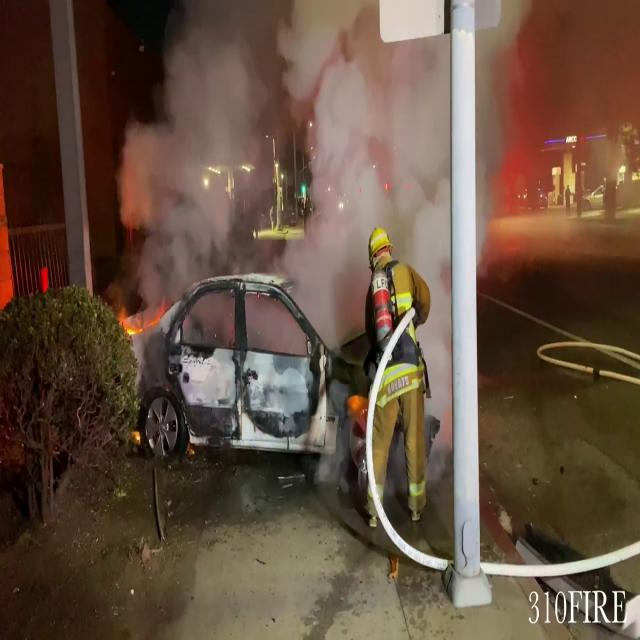Fire: (120, 308, 144, 341)
Smoke: (293, 2, 451, 333), (108, 1, 276, 295), (478, 0, 640, 218)
